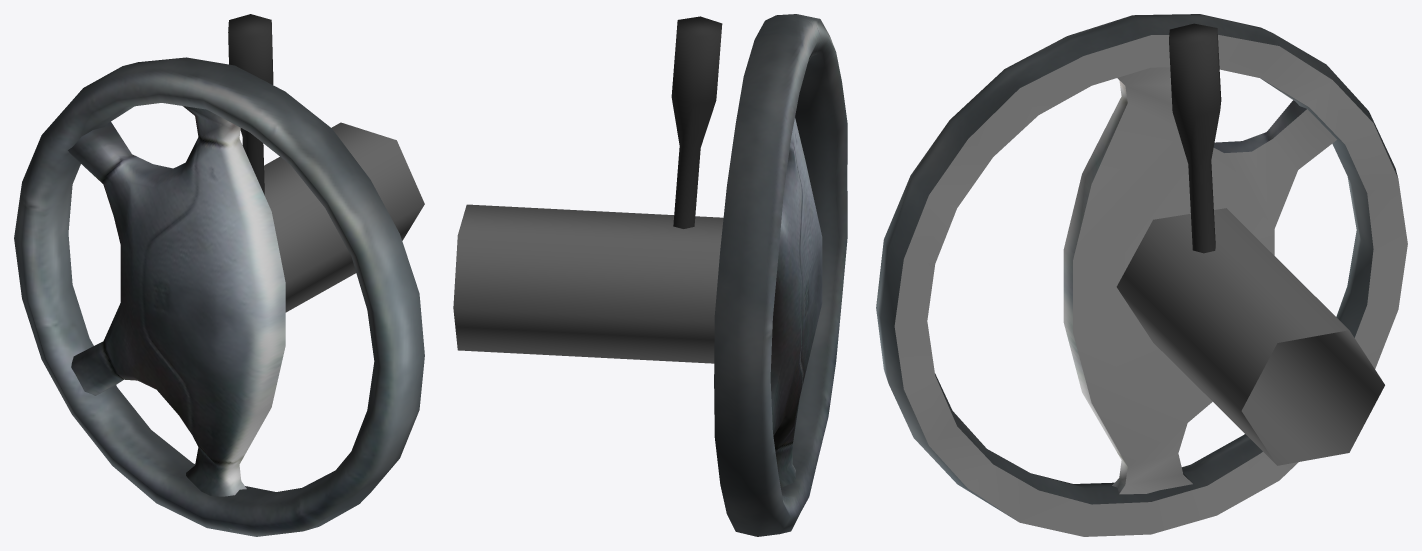
File: steering_wheel.obj
The picture shows the model from 3 angles, left to right: view 1: azimuth 30°, elevation 25°; view 2: azimuth 150°, elevation 25°; view 3: azimuth 270°, elevation 25°; orthographic projection. The views are drawn at different scales.
Visible parts, largest first — view 1: steeringw, 11___Default, 6___Default; view 2: steeringw, 11___Default, 6___Default; view 3: 16___Default, 11___Default, steeringw, 6___Default.
Boxes of the visible parts, <box> form: steeringw: <box>14,57,424,536</box>; 11___Default: <box>264,122,424,312</box>; 6___Default: <box>228,14,273,194</box>; steeringw: <box>714,14,847,536</box>; 11___Default: <box>453,204,723,363</box>; 6___Default: <box>671,16,722,228</box>; 16___Default: <box>894,35,1407,536</box>; 11___Default: <box>1116,208,1384,465</box>; steeringw: <box>876,14,1398,519</box>; 6___Default: <box>1169,23,1221,253</box>.
Bounding box in the file's own units: 0.3011 × 0.3954 × 0.362.
Materials: 4 (1 with a texture image).
